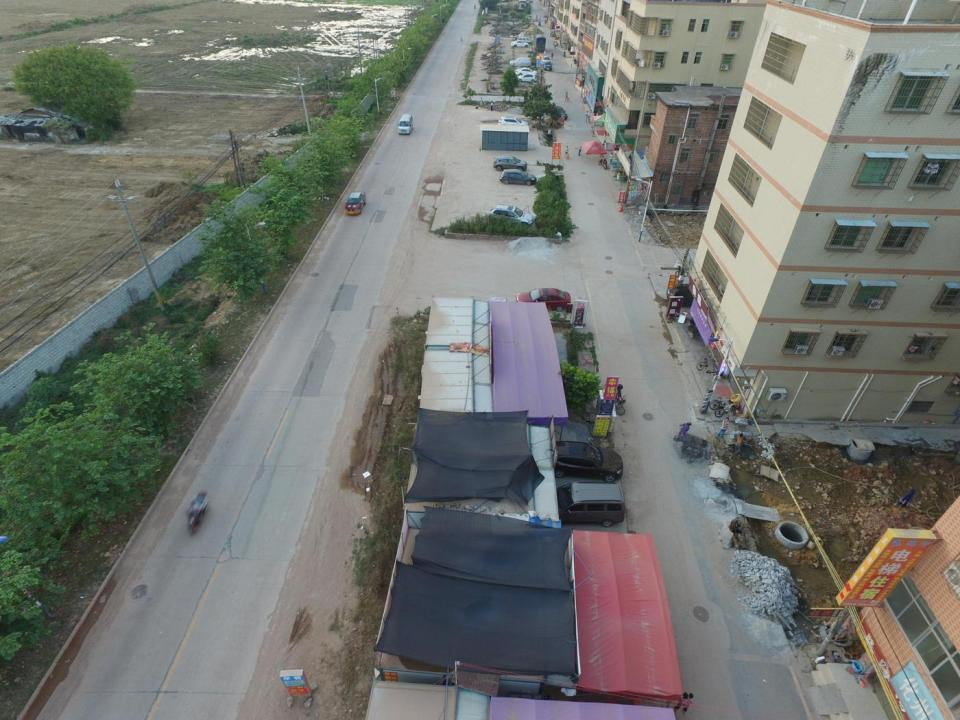car: (545, 440, 622, 480), (516, 289, 569, 312), (490, 204, 535, 227), (500, 169, 536, 185), (494, 156, 527, 172), (344, 192, 366, 215), (499, 116, 528, 129), (516, 73, 537, 84), (515, 66, 538, 76), (553, 104, 567, 120), (510, 57, 533, 66), (511, 40, 528, 48), (543, 61, 552, 71), (517, 38, 531, 44), (543, 56, 552, 65)
van: (546, 482, 624, 526), (398, 112, 414, 134)
